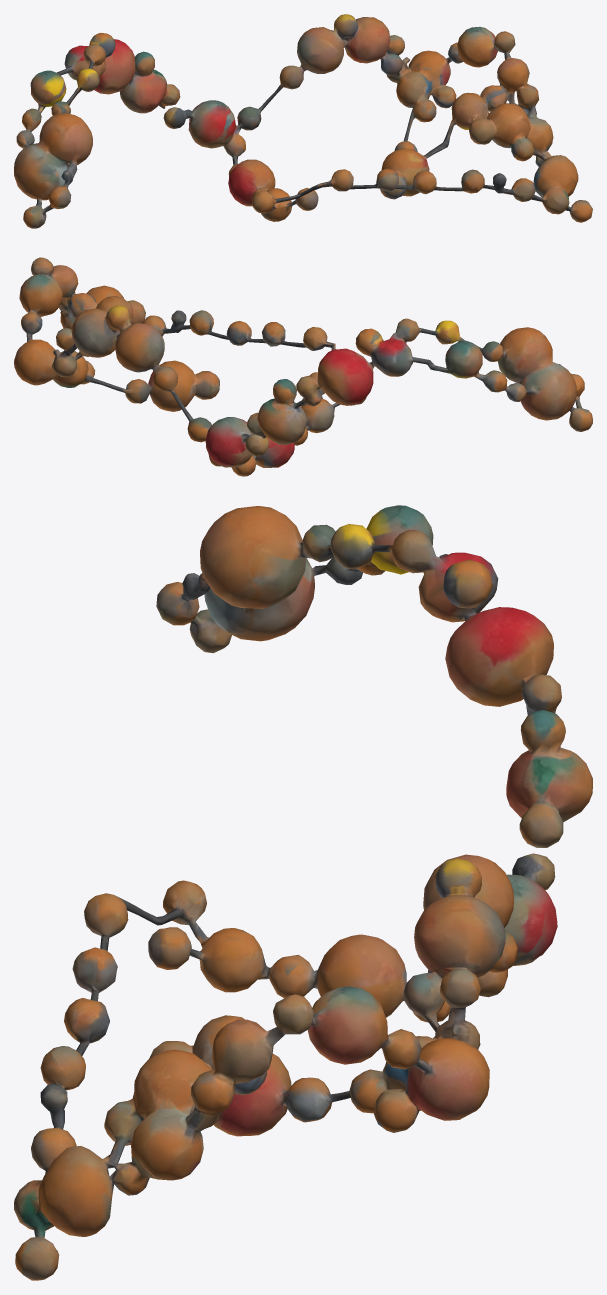
Rendered from Part_ProteinChain.glb.
3 views of the same model, one above another, from view 1: azimuth 30°, elevation 25°; view 2: azimuth 150°, elevation 25°; view 3: azimuth 270°, elevation 25° (orthographic). The views are drawn at different scales.
Bounding box in the file's own units: 1.9 × 0.6942 × 0.9512.
1 material, 1 textured.
